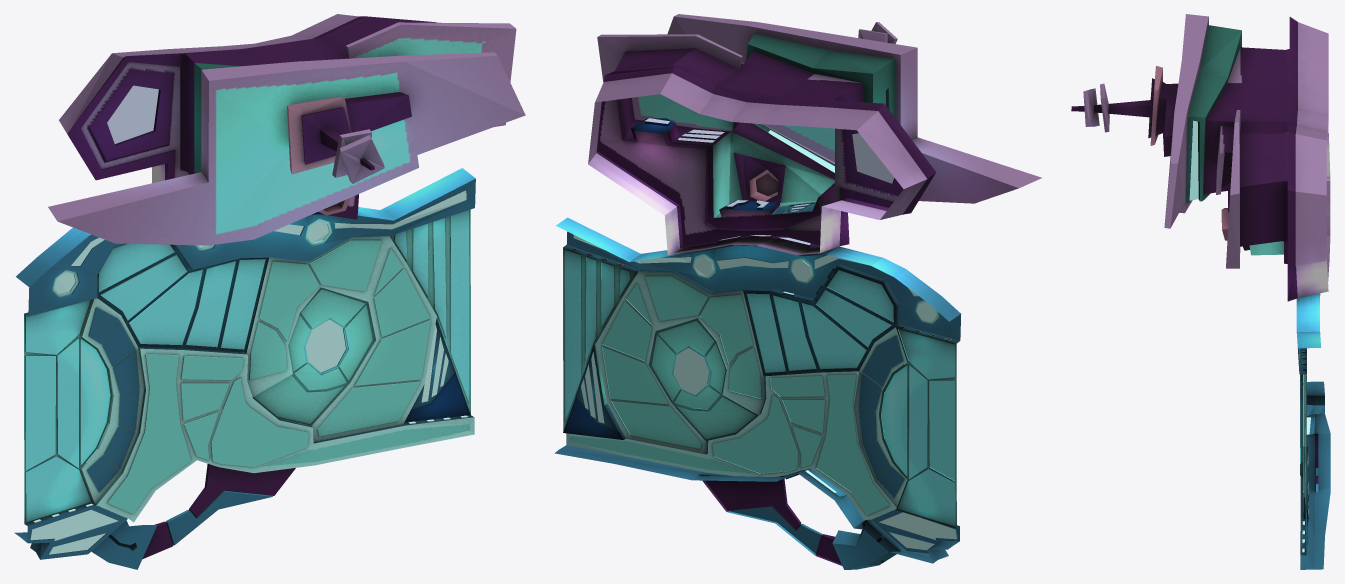
The model's file is ThugShip_Tile_Bay_01.fbx.
The picture shows the model from 3 angles, left to right: view 1: azimuth 30°, elevation 25°; view 2: azimuth 150°, elevation 25°; view 3: azimuth 270°, elevation 25°; orthographic projection. The views are drawn at different scales.
Visible parts, largest first — view 1: ThugShip_Tile_Bay_01, ThugShip_Tile_House_01, ThugShip_Tile_Bay_01_Glow, ThugShip_Tile_House_01_Glow; view 2: ThugShip_Tile_Bay_01, ThugShip_Tile_House_01, ThugShip_Tile_Bay_01_Glow, ThugShip_Tile_House_01_Glow; view 3: ThugShip_Tile_House_01, ThugShip_Tile_Bay_01, ThugShip_Tile_House_01_Glow_2.
Boxes of the visible parts, x1,y1,x2,y2 form: ThugShip_Tile_Bay_01: (14,168,475,569); ThugShip_Tile_House_01: (48,14,525,245); ThugShip_Tile_Bay_01_Glow: (30,190,468,554); ThugShip_Tile_House_01_Glow: (107,85,158,143); ThugShip_Tile_Bay_01: (555,217,960,569); ThugShip_Tile_House_01: (588,14,1041,255); ThugShip_Tile_Bay_01_Glow: (571,235,956,550); ThugShip_Tile_House_01_Glow: (644,118,894,245); ThugShip_Tile_House_01: (1071,14,1330,301); ThugShip_Tile_Bay_01: (1296,293,1330,569); ThugShip_Tile_House_01_Glow_2: (1189,120,1198,200).
Size of the model in its own units: 94.53 by 102 by 51.34.
Materials: 5 (2 with a texture image).
